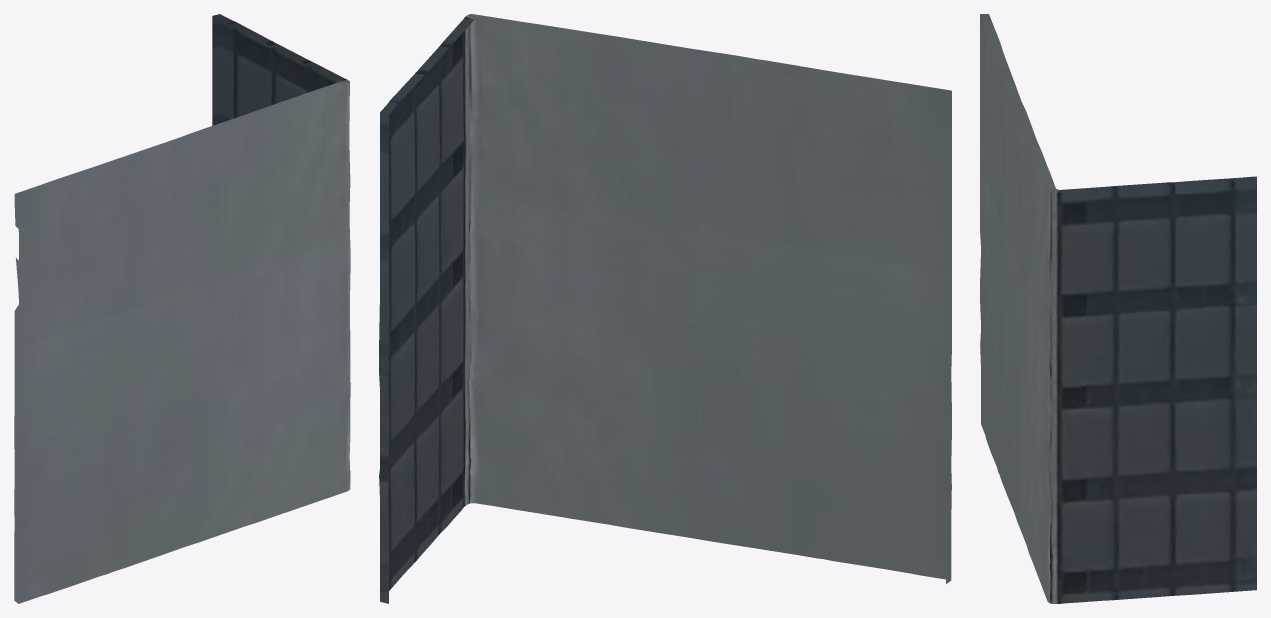
File: z20-167758-405235-h1-yup-uvflip-v3-world.glb
3 renders of one model, left to right at view 1: azimuth 30°, elevation 25°; view 2: azimuth 150°, elevation 25°; view 3: azimuth 270°, elevation 25°, orthographic. The views are drawn at different scales.
Bounding box in the file's own units: 22.96 × 24.32 × 14.88.
1 material, 1 textured.
